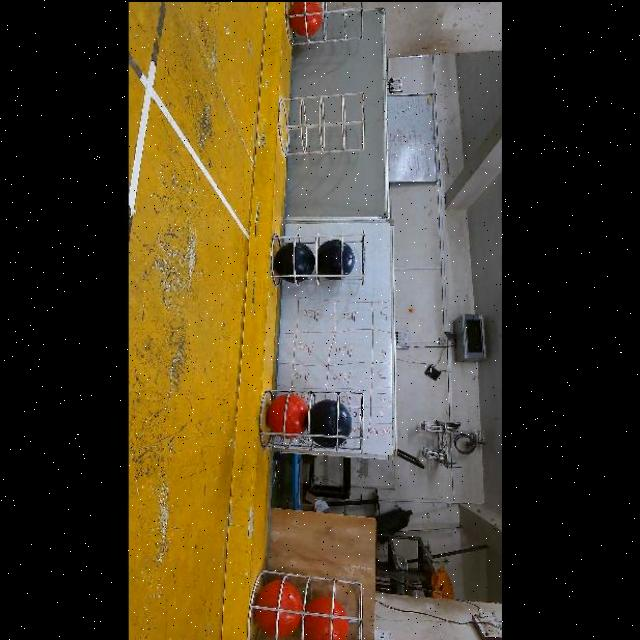P: (311, 398, 352, 447), (274, 241, 316, 282), (317, 238, 356, 278)
R: (254, 579, 301, 638), (304, 595, 350, 640), (266, 392, 309, 438), (290, 0, 324, 35)
S: (248, 562, 368, 640), (258, 380, 369, 452), (282, 92, 368, 160), (274, 232, 368, 290), (276, 0, 370, 36)
